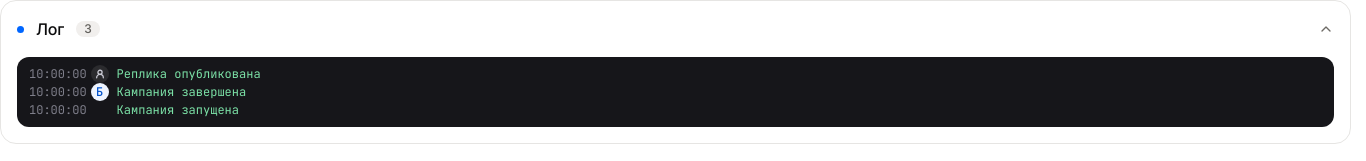
Test: an account the fleet does not know is a neutral face named by its id, and still filters
Expected: the text "Б" is shown, [91,83,109,101]
Click the button named "gone-7" at point(100, 74), box [91,65,109,83]
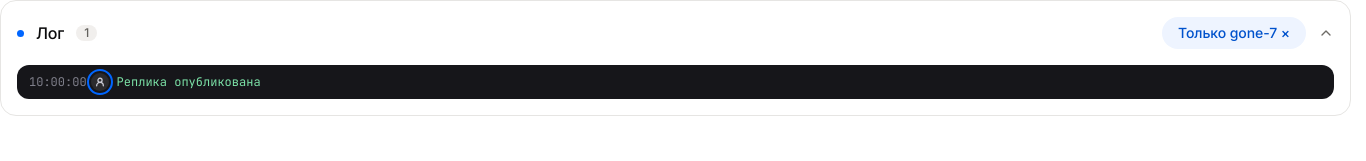
Expected: the text "Кампания завершена" is gone
Expected: the button "Только gone-7 ×" is shown, [1162,17,1306,49]
